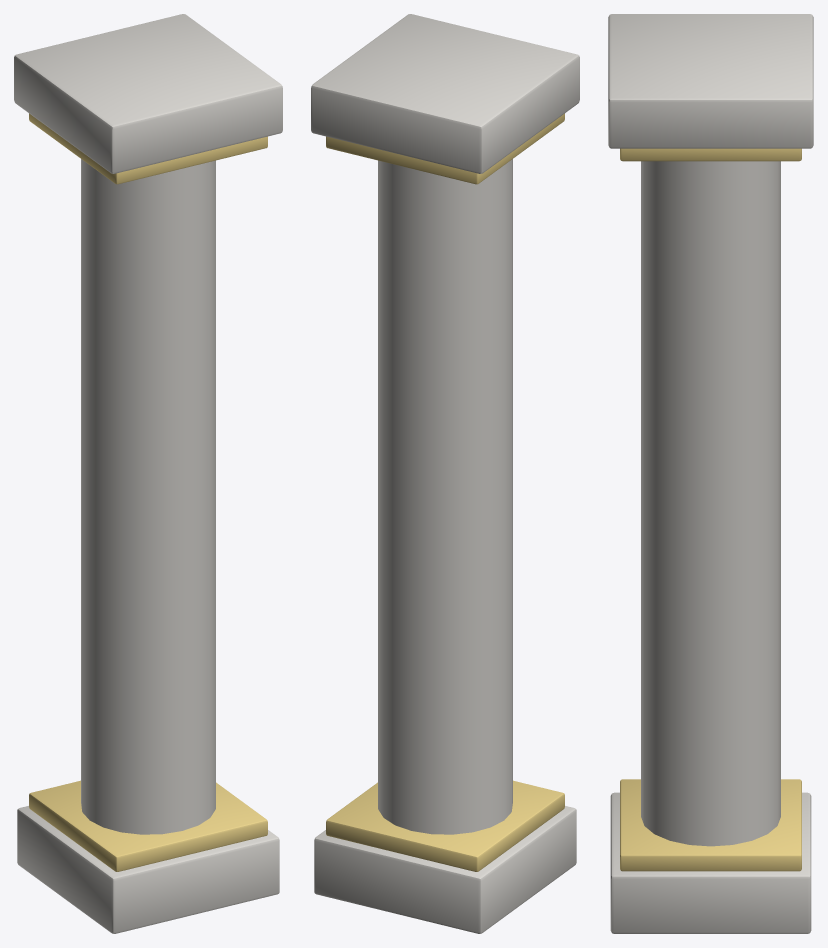
Rendered from hotel_pillar.glb.
3 renders of one model, left to right at view 1: azimuth 30°, elevation 25°; view 2: azimuth 150°, elevation 25°; view 3: azimuth 270°, elevation 25°, orthographic. The views are drawn at different scales.
Parts seen in each view (by area): view 1: HotelPillar_Mesh; view 2: HotelPillar_Mesh; view 3: HotelPillar_Mesh.
Part boxes in pixels (x1,y1,x2,y2): HotelPillar_Mesh: [14, 14, 282, 933]; HotelPillar_Mesh: [311, 14, 579, 933]; HotelPillar_Mesh: [608, 14, 813, 933].
Size of the model in its own units: 0.88 by 3.96 by 0.88.
